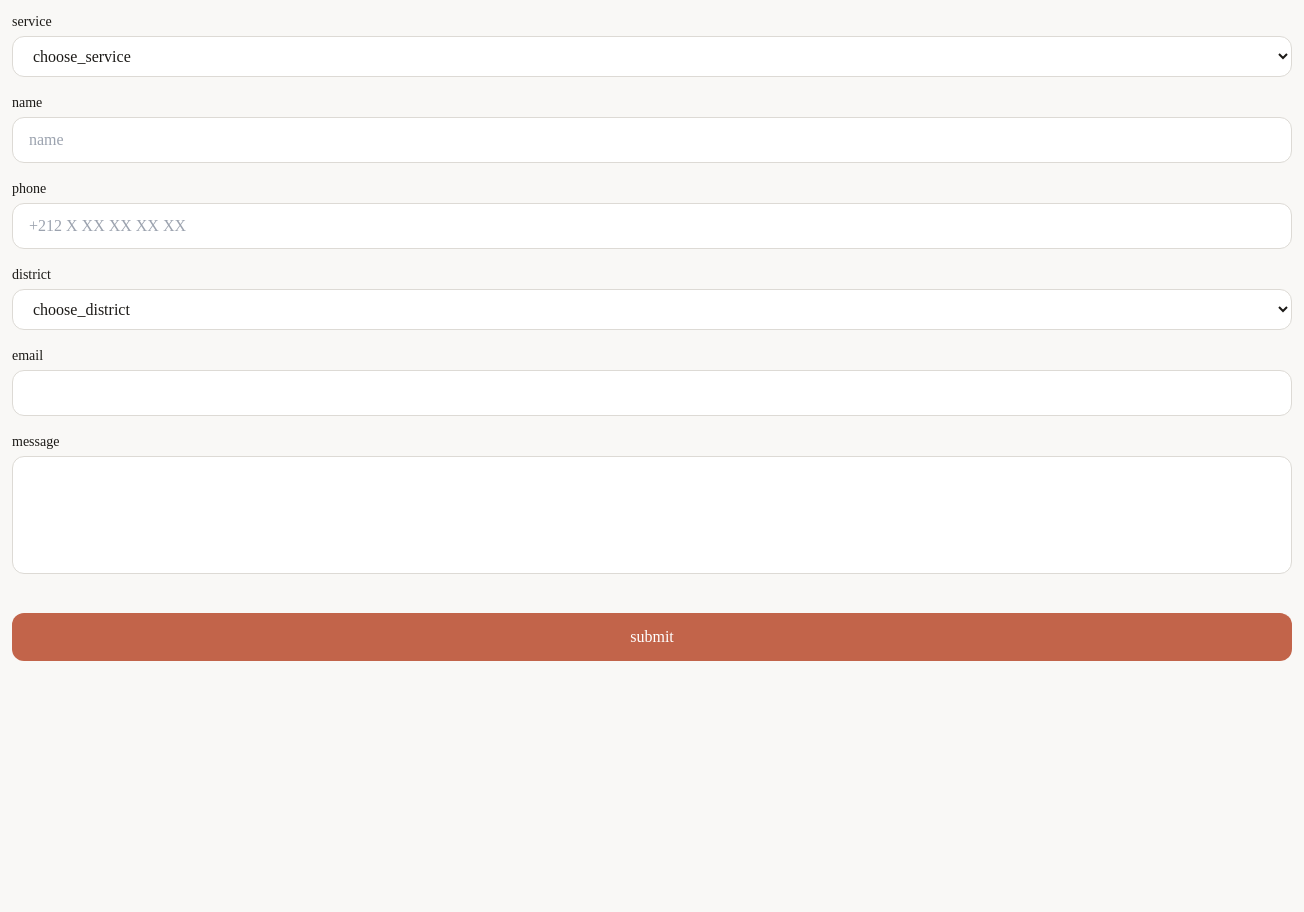
Test: ContactForm service selector › shows a mapped message when rate limited
Select "Plomberie" in the dropdown labelled "service" at point(652, 56), box [12,36,1292,77]
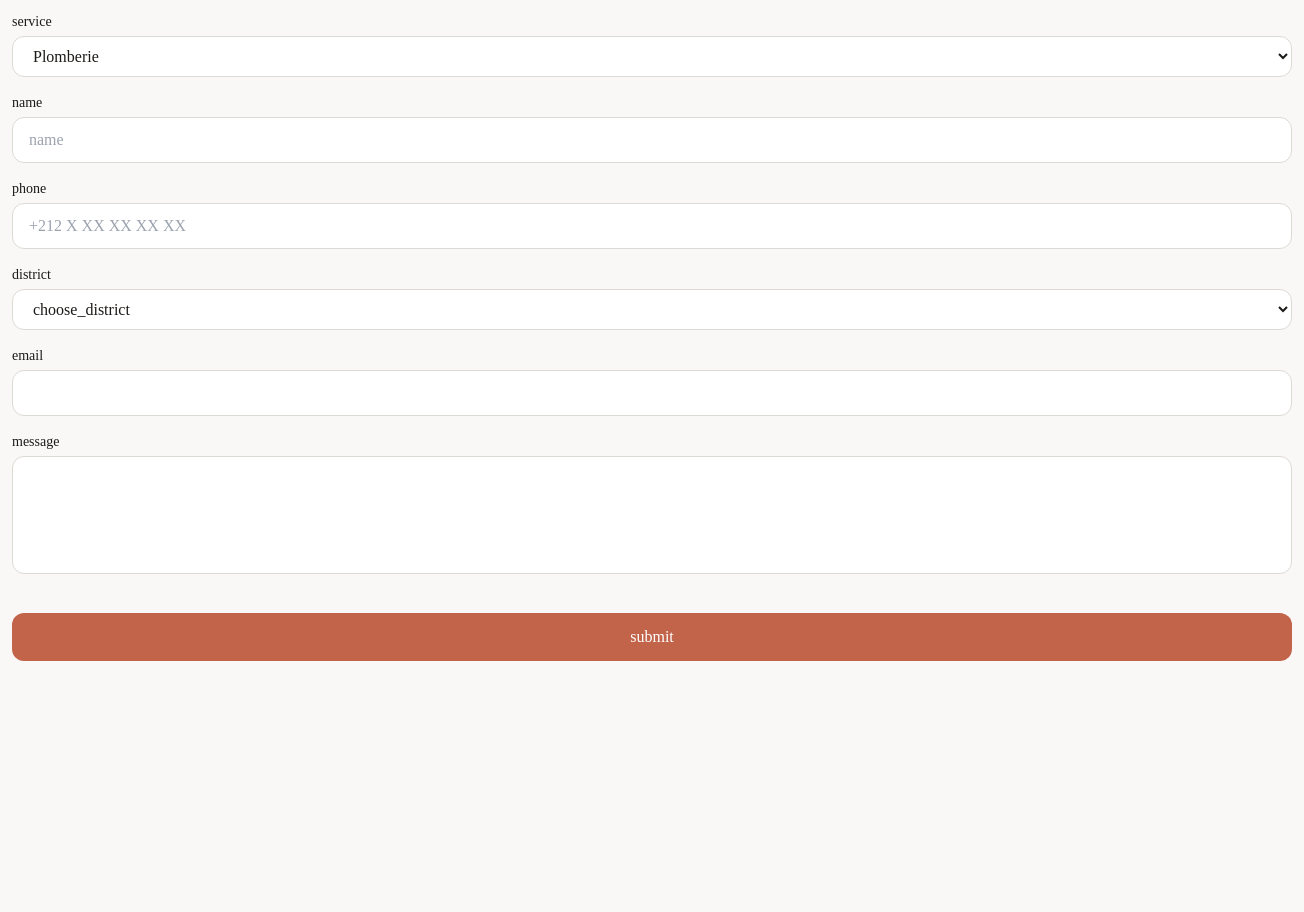
Type "Karim Test" into the field labelled "name" at point(652, 140), box [12,117,1292,163]
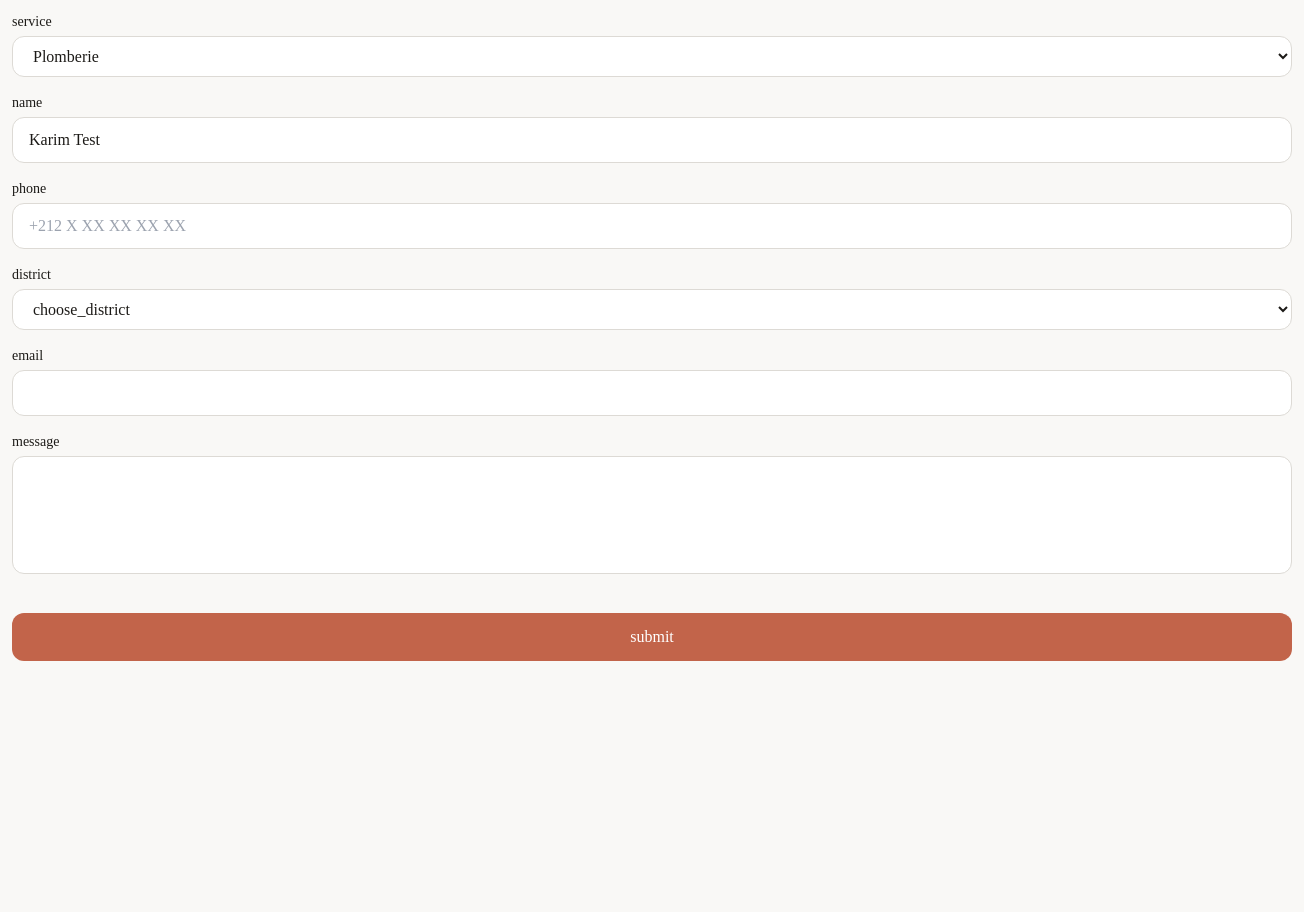
Type "+212612345678" into the field labelled "phone" at point(652, 226), box [12,203,1292,249]
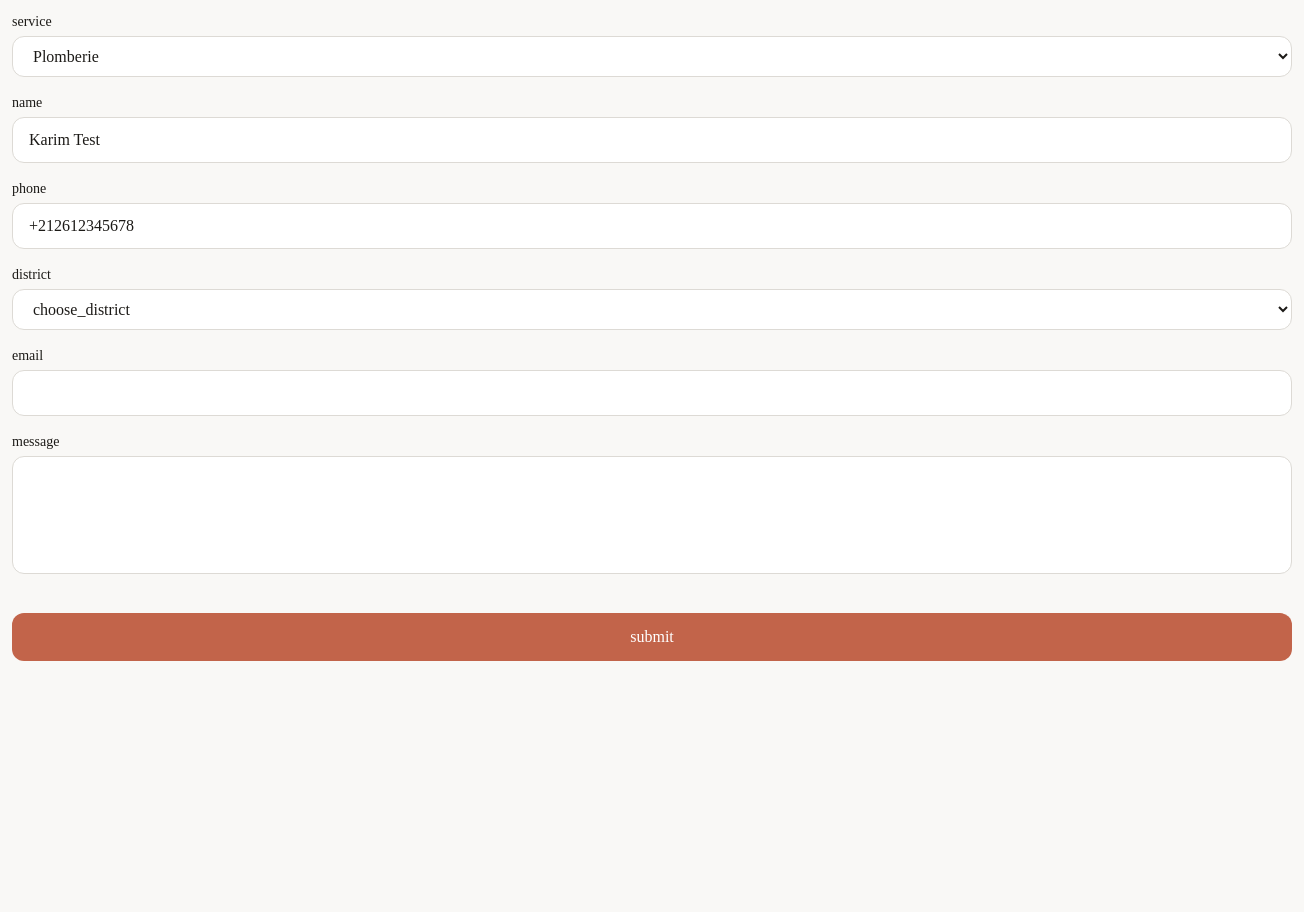
Select "Gueliz" in the dropdown labelled "district" at point(652, 310), box [12,289,1292,330]
Click the button "submit" at point(652, 637), box [12,613,1292,661]
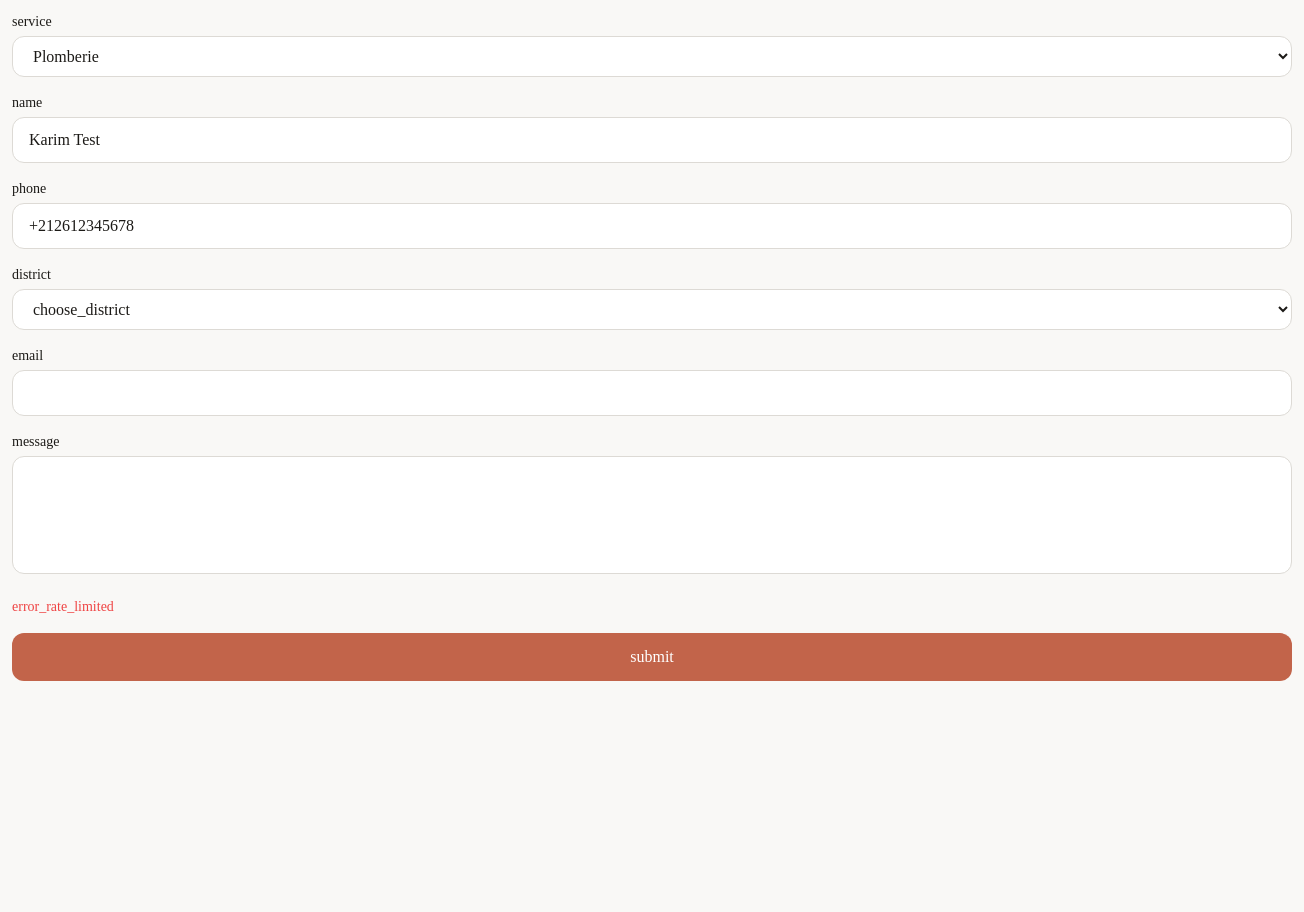
Result: the text "error_rate_limited" is shown at [12,599,114,614]
